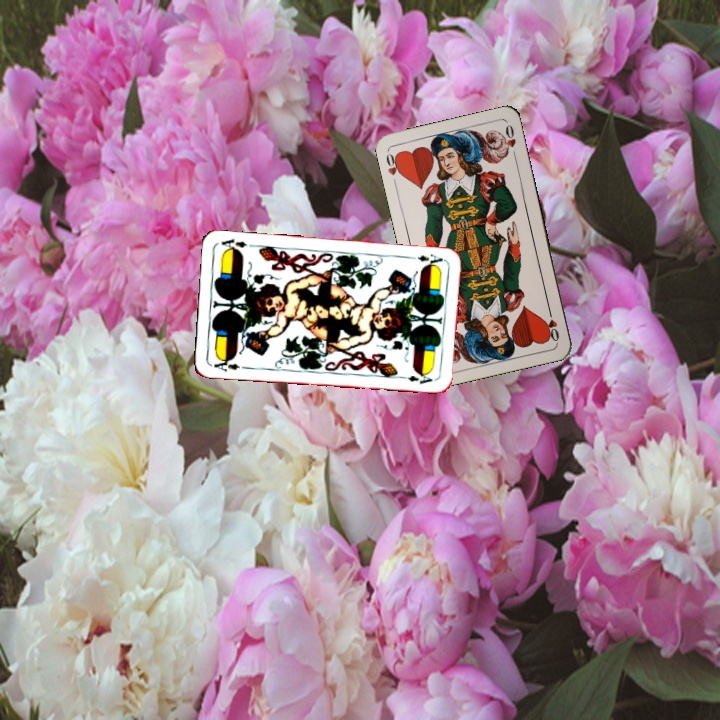EA: (405, 250, 445, 268), (210, 354, 243, 375)
HO: (382, 148, 405, 188), (543, 304, 562, 344)
